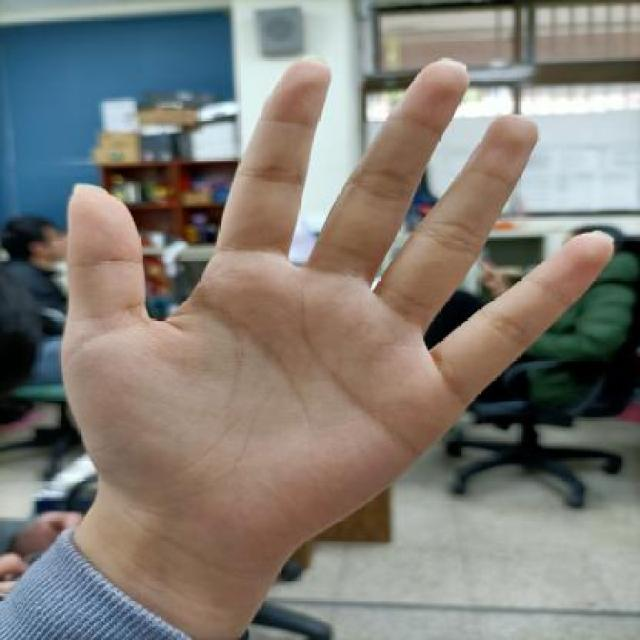bare_hand: (40, 55, 626, 568)
